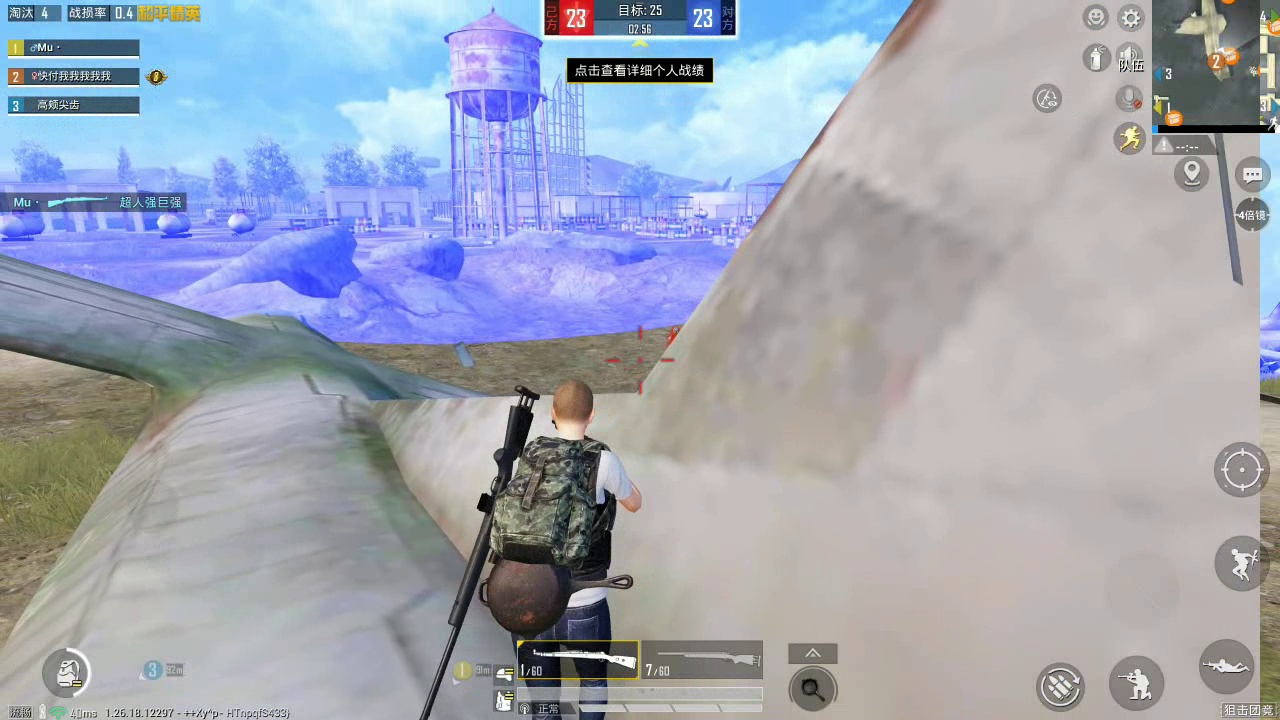enemy: (665, 325, 680, 338)
